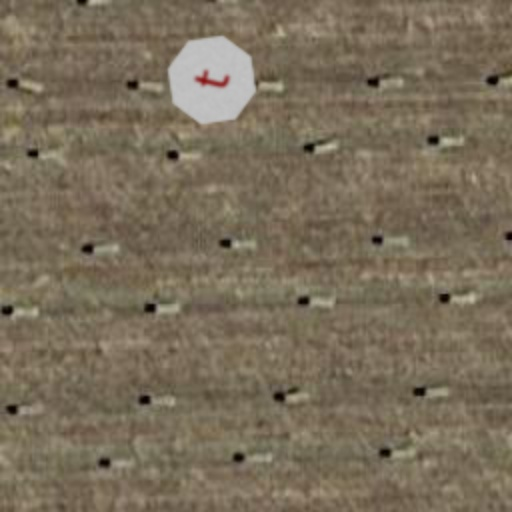octagon: (156, 24, 268, 136)
